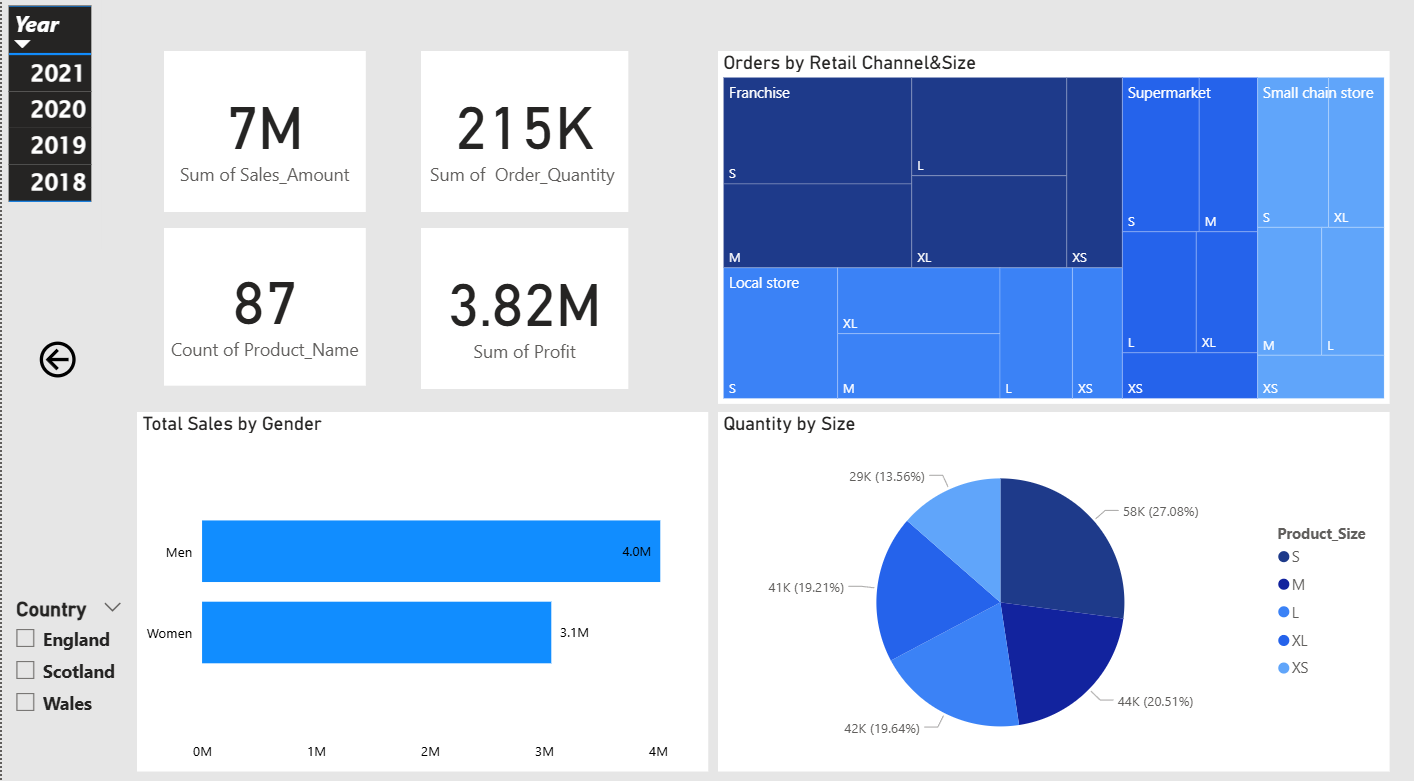

Layout of this report page (visuals, bound fields, positions):
{"tool":"powerbi","page":{"name":"Dash 1","canvas":[1280,720],"ordinal":1},"visuals":[{"type":"tableEx","fields":{"Values":["Orders.Order_Date.Variation.Date Hierarchy.Year"]},"box":[0,10.6,89.6,226.1],"z":0},{"type":"slicer","fields":{"Values":["Retailers.Country"]},"box":[0,548,120.6,172],"z":1000},{"type":"treemap","fields":{"Group":["Retailers.Retailer_Channel","Products.Product_Size"],"Details":["Products.Product_Size"],"Values":["Sum(Orders. Order_Quantity )"]},"box":[649.1,56.7,609.2,320.1],"z":2000},{"type":"pieChart","fields":{"Category":["Products.Product_Size"],"Y":["Sum(Orders. Order_Quantity )"]},"box":[649.1,384.8,609.2,326.3],"z":3000},{"type":"card","fields":{"Values":["Sum(Orders.Sales_Amount)"]},"box":[147.2,56.7,182.7,146.3],"z":4000},{"type":"clusteredBarChart","fields":{"Category":["Products.Product_Gender"],"Y":["Sum(Orders.Sales_Amount)"]},"box":[122.4,384.8,517.8,326.3],"z":5000},{"type":"card","fields":{"Values":["Sum(Orders. Order_Quantity )"]},"box":[379.5,56.7,188,146.3],"z":6000},{"type":"card","fields":{"Values":["Count(Products.Product_Name)"]},"box":[147.2,217.2,182.7,142.8],"z":7000},{"type":"card","fields":{"Values":["Sum(Orders.Profit)"]},"box":[379.5,217.2,188,146.3],"z":8000},{"type":"actionButton","box":[0,307.7,100.2,55.9],"z":9000}]}

Visuals, with their boxes in screenshot pixels (x1, y1, x2, y2), scaled from the page's 1280x720 canvas onto the 1414x781 screenshot:
tableEx - Orders.Order_Date.Variation.Date Hierarchy.Year: locate(0, 11, 99, 257)
slicer - Retailers.Country: locate(0, 594, 133, 780)
treemap - Retailers.Retailer_Channel x Products.Product_Size: locate(717, 62, 1390, 409)
pieChart - Products.Product_Size x Sum(Orders. Order_Quantity ): locate(717, 417, 1390, 771)
card - Sum(Orders.Sales_Amount): locate(163, 62, 364, 220)
clusteredBarChart - Products.Product_Gender x Sum(Orders.Sales_Amount): locate(135, 417, 707, 771)
card - Sum(Orders. Order_Quantity ): locate(419, 62, 627, 220)
card - Count(Products.Product_Name): locate(163, 236, 364, 390)
card - Sum(Orders.Profit): locate(419, 236, 627, 394)
actionButton: locate(0, 334, 111, 394)
